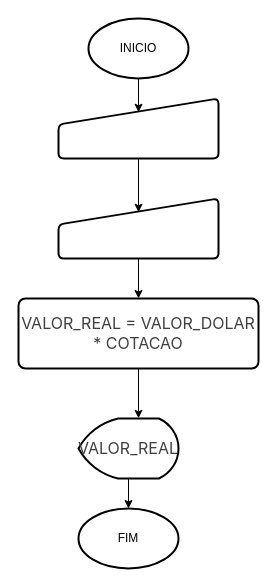
Some shapes in this 276 by 586 pixel diagram are drawn without their labels. Each missing label, with the centre of its shape:
Digite a cotação do dólar: [138,128]
Digite o valor em dólares: [138,228]
